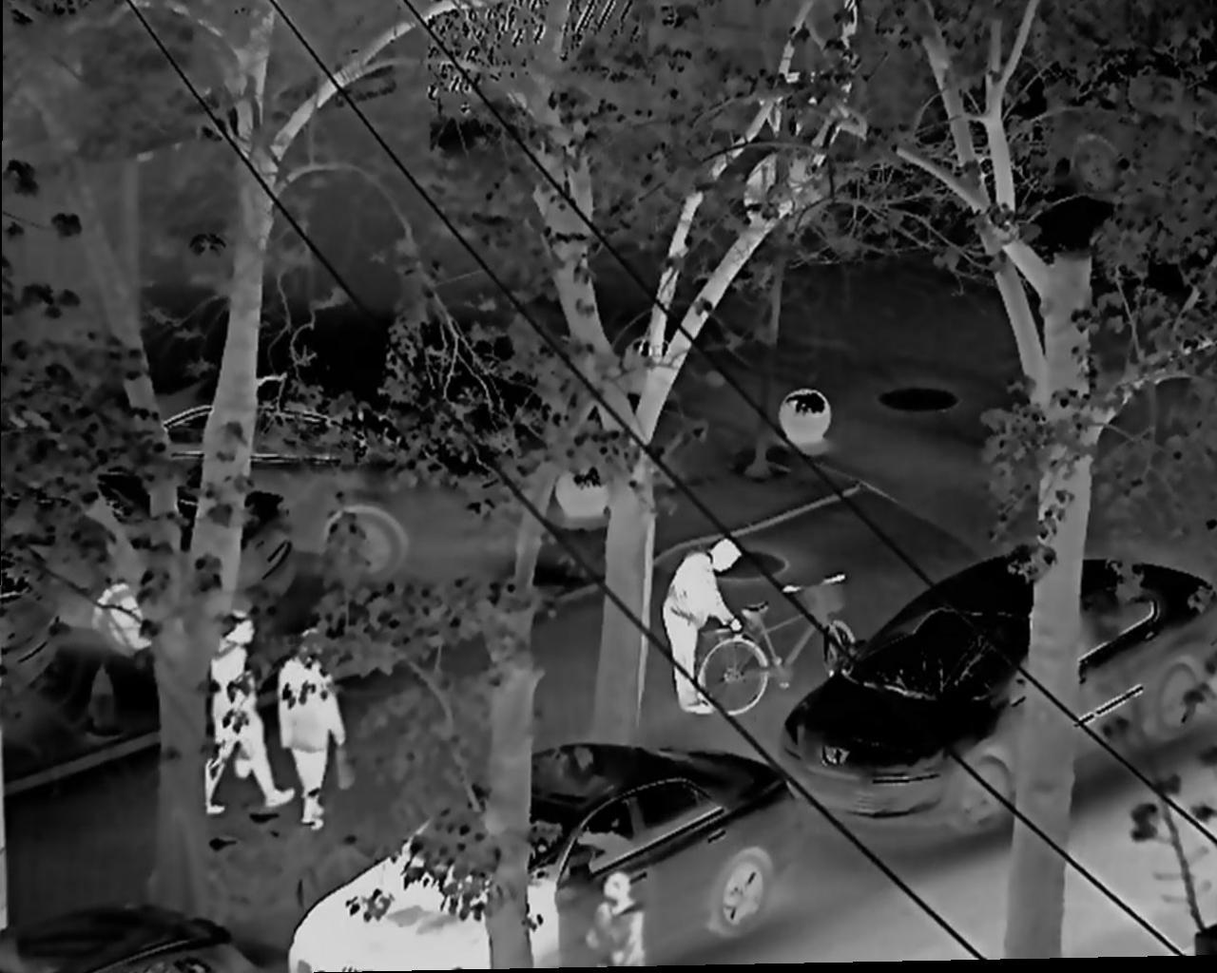person: (207, 611, 295, 812), (276, 628, 349, 831), (662, 537, 744, 715), (585, 870, 647, 973)
